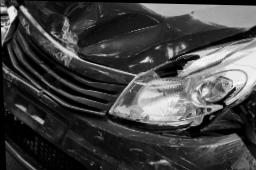Bonnet: (2, 0, 256, 123)
Bumper: (2, 59, 256, 170)
Light: (106, 34, 256, 120)
